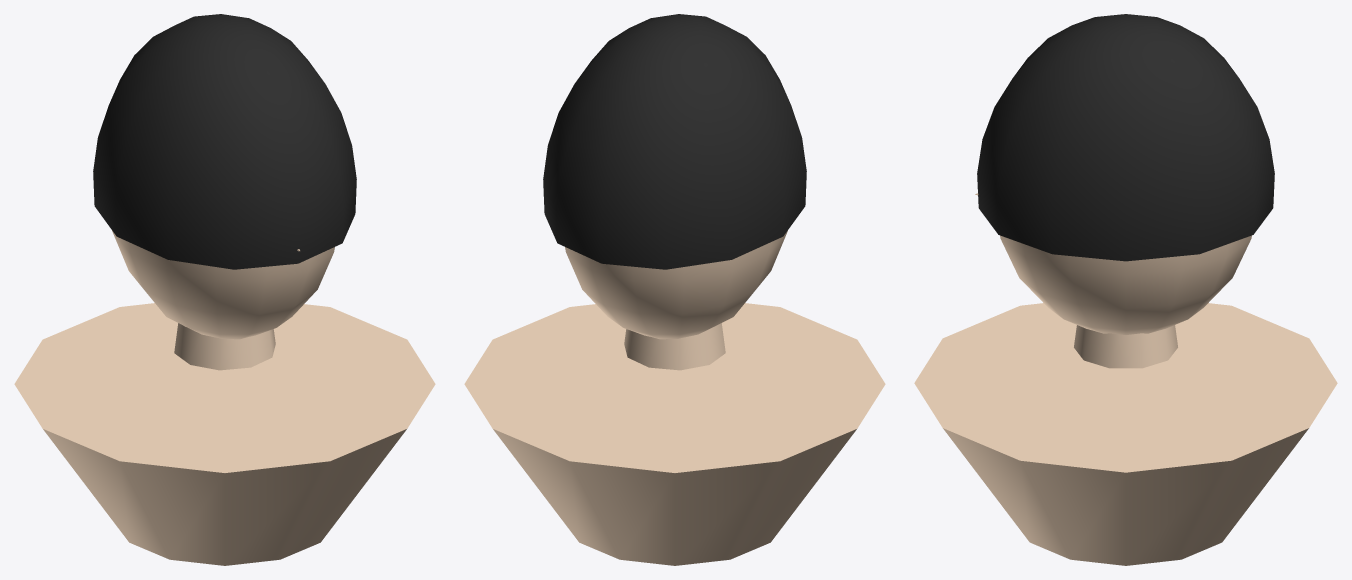
Rendered from raw_002.glb.
3 renders of one model, left to right at view 1: azimuth 30°, elevation 25°; view 2: azimuth 150°, elevation 25°; view 3: azimuth 270°, elevation 25°, orthographic.
Size of the model in its own units: 1.7 by 2.21 by 1.7.
